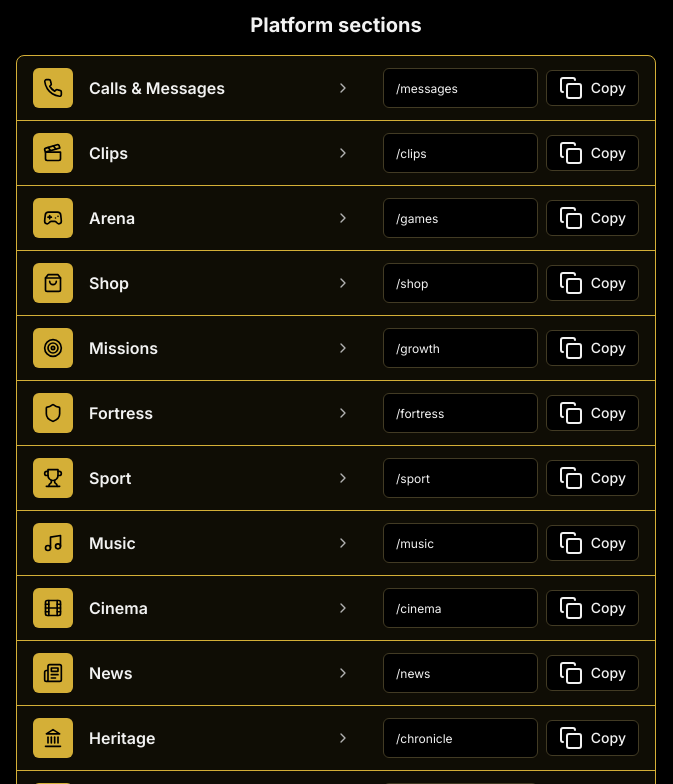
Test: platform directory › shows a public link for every section and copies without navigating
Click the button with test id "copy-module-messages" at (592, 88), box [546,70,639,106]
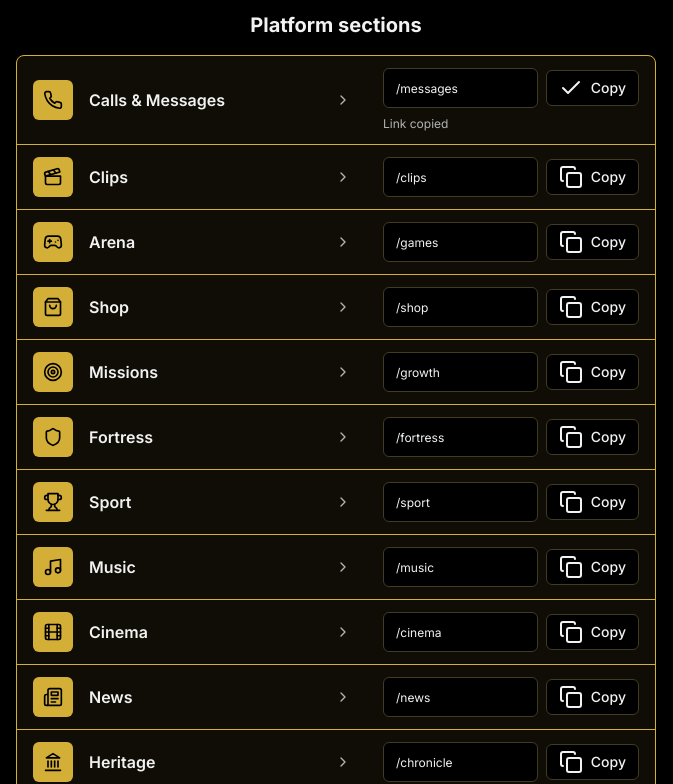
expect the message reads "Link copied": met, box [383,116,448,131]
